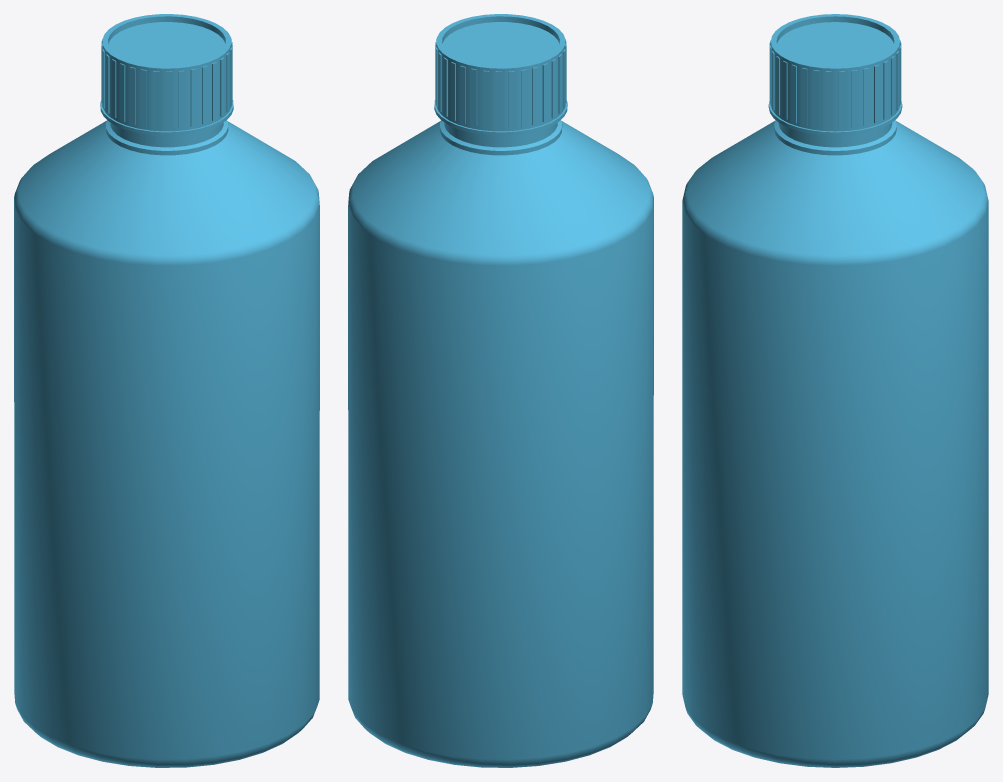
The model's file is aquades.fbx.
3 views of the same model, side by side, from view 1: azimuth 30°, elevation 25°; view 2: azimuth 150°, elevation 25°; view 3: azimuth 270°, elevation 25° (orthographic).
Parts seen in each view (by area): view 1: bottle.001, cap.003; view 2: bottle.001, cap.003; view 3: bottle.001, cap.003.
Boxes of the visible parts, left/top/right/bottom form: bottle.001: left=14, top=120, right=319, bottom=767; cap.003: left=100, top=14, right=233, bottom=135; bottle.001: left=348, top=120, right=653, bottom=767; cap.003: left=434, top=14, right=567, bottom=135; bottle.001: left=682, top=120, right=988, bottom=767; cap.003: left=768, top=14, right=902, bottom=135.
Bounding box in the file's own units: 0.0675 × 0.1631 × 0.0675.
